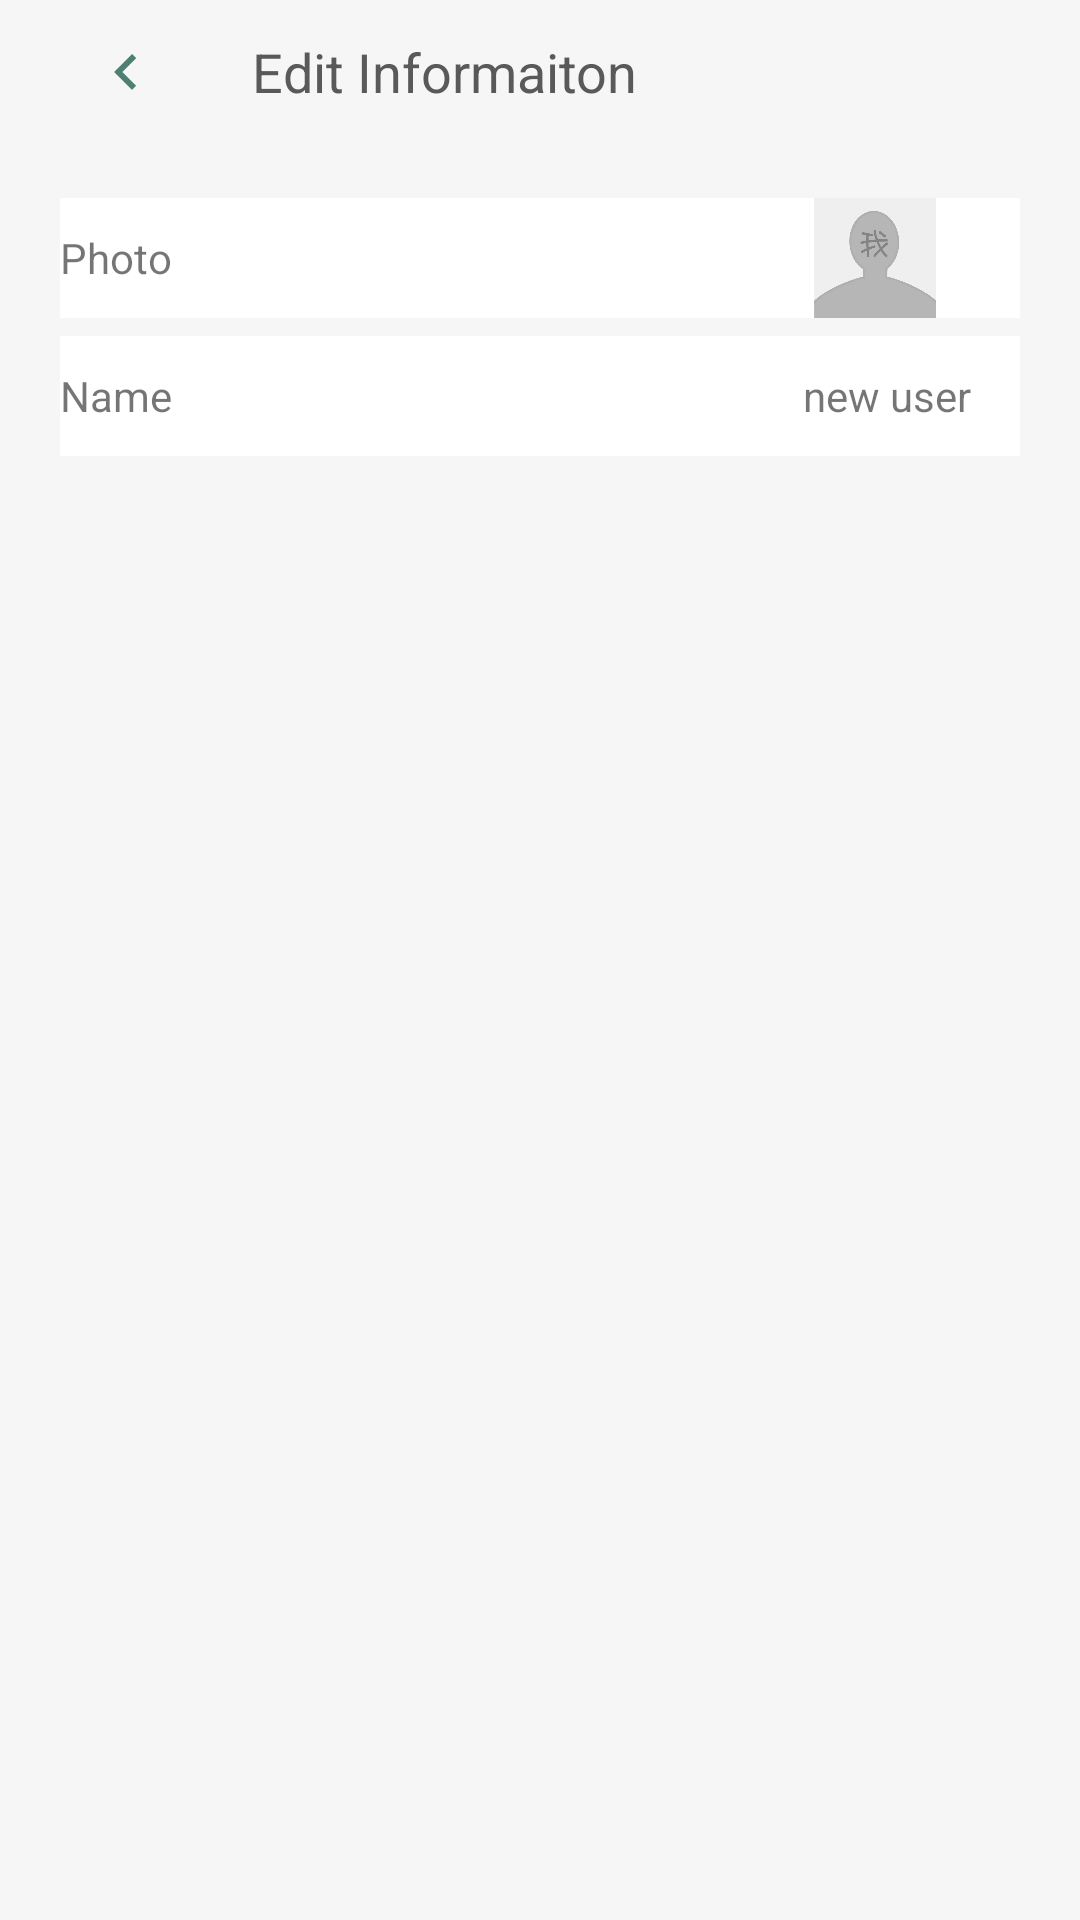

Screen size 1080px x 1920px. Icon name, then its center in pixels as [x,y]:
keyboard arrow left: [125,72]
portrait: [875,264]
